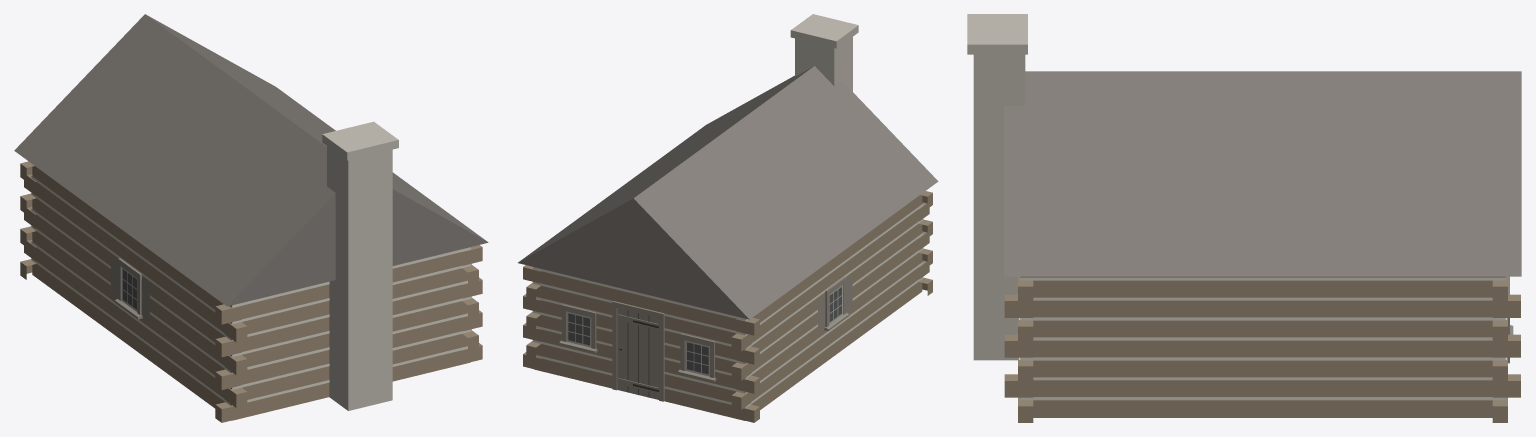
The model's file is recon_1835_blk_randolph_dearborn_d1_12__inferred_1835.glb.
3 renders of one model, left to right at view 1: azimuth 30°, elevation 25°; view 2: azimuth 150°, elevation 25°; view 3: azimuth 270°, elevation 25°, orthographic. The views are drawn at different scales.
Parts seen in each view (by area): view 1: recon_1835_blk_randolph_dearborn_d1_12__inferred_1835; view 2: recon_1835_blk_randolph_dearborn_d1_12__inferred_1835; view 3: recon_1835_blk_randolph_dearborn_d1_12__inferred_1835.
Part boxes in pixels (x1,y1,x2,y2): recon_1835_blk_randolph_dearborn_d1_12__inferred_1835: (14, 14, 488, 422); recon_1835_blk_randolph_dearborn_d1_12__inferred_1835: (518, 14, 938, 422); recon_1835_blk_randolph_dearborn_d1_12__inferred_1835: (967, 14, 1521, 422).
Bounding box in the file's own units: 5.69 × 5.43 × 8.58.
